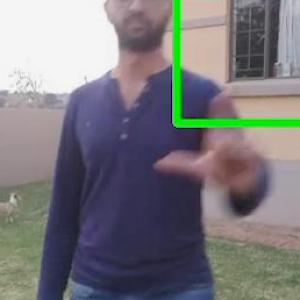land_hand: (147, 84, 270, 214)
